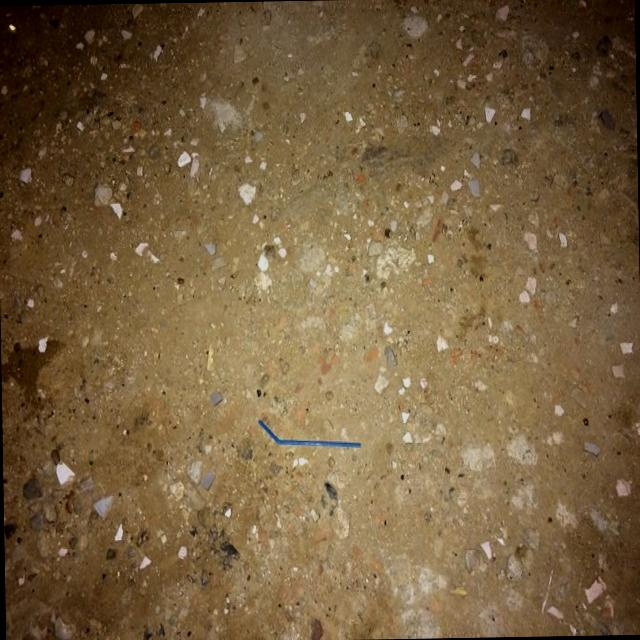Trash: (251, 406, 367, 461)
